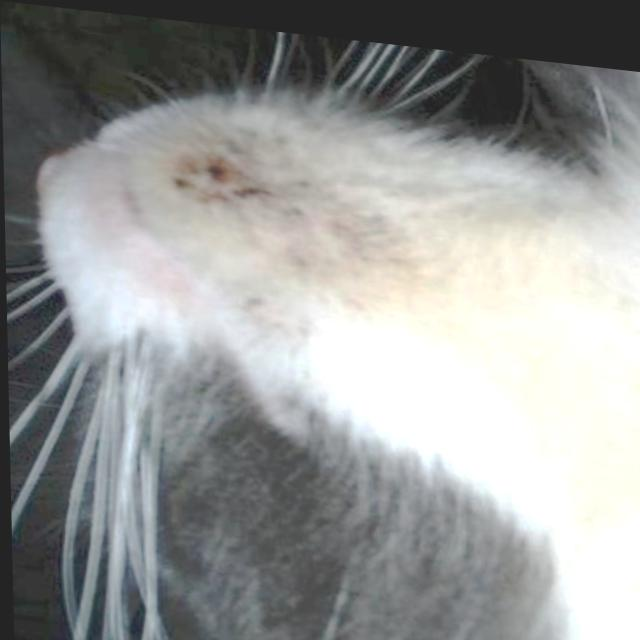acne: (171, 152, 282, 208)
